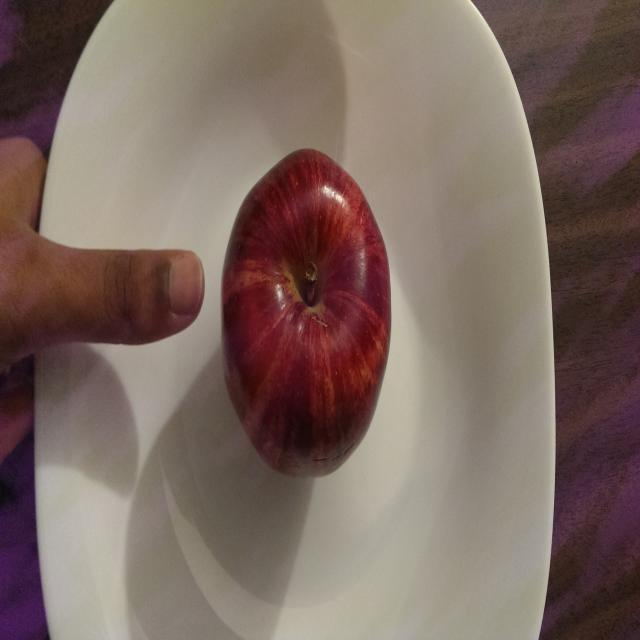Apple: (215, 146, 399, 484)
Finger: (86, 244, 208, 350)
